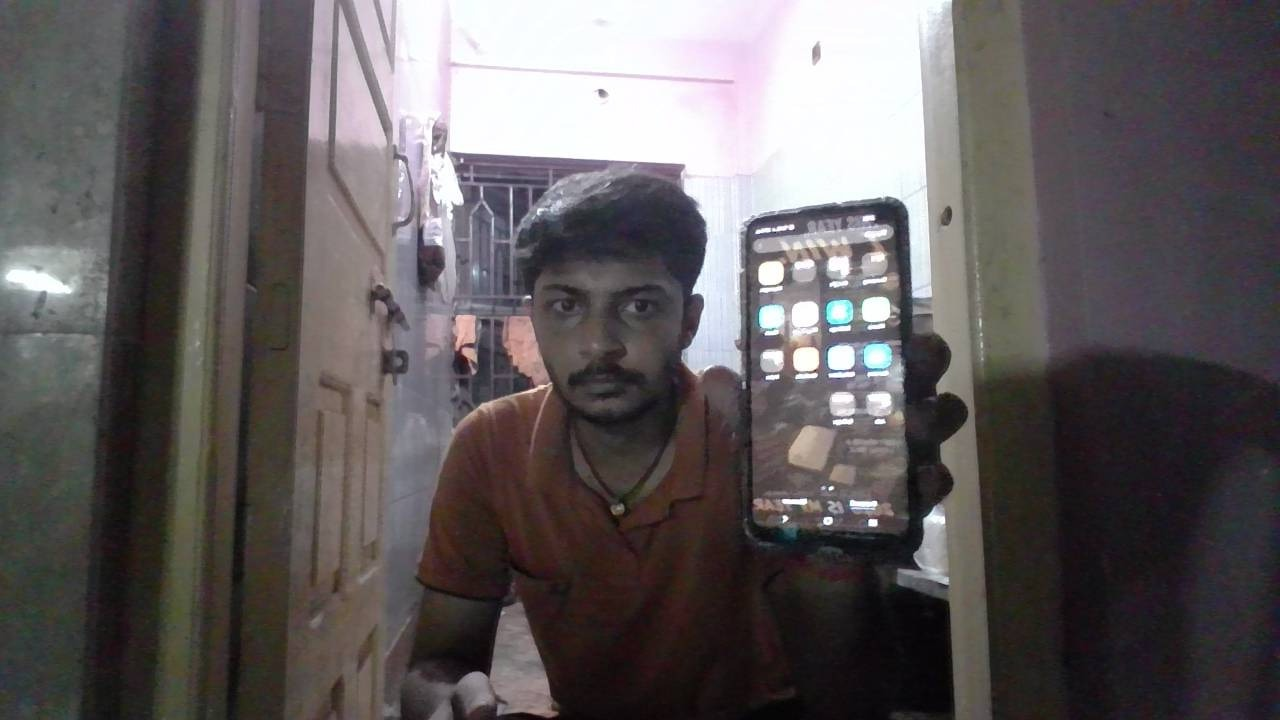red_box: (420, 398, 604, 586), (621, 442, 726, 531)
